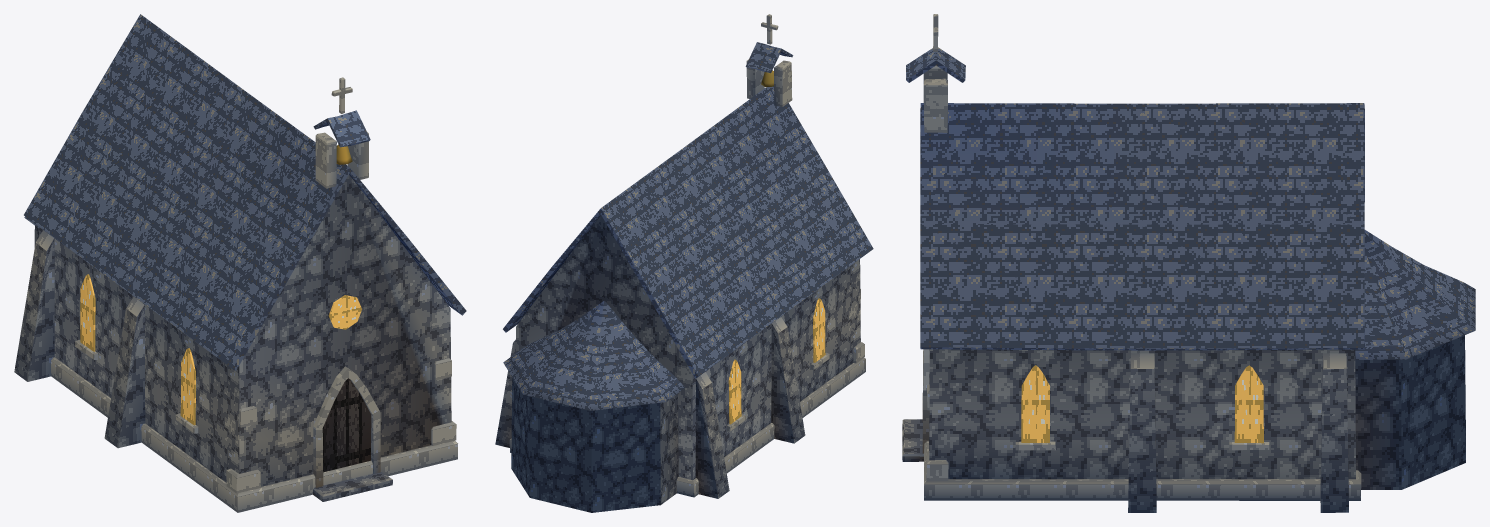
Rendered from vlg.chapel.glb.
3 renders of one model, left to right at view 1: azimuth 30°, elevation 25°; view 2: azimuth 150°, elevation 25°; view 3: azimuth 270°, elevation 25°, orthographic. The views are drawn at different scales.
Visible parts, largest first — view 1: kit_roof, kit_walls, kit_stonework, kit_fittings; view 2: kit_roof, kit_walls, kit_stonework, kit_fittings; view 3: kit_roof, kit_walls, kit_stonework, kit_fittings.
Boxes of the visible parts, <box> form: kit_roof: <box>24,14,466,370</box>; kit_walls: <box>34,174,451,486</box>; kit_stonework: <box>14,132,457,512</box>; kit_fittings: <box>75,77,392,501</box>; kit_roof: <box>503,42,873,410</box>; kit_walls: <box>511,215,860,512</box>; kit_stonework: <box>495,59,865,498</box>; kit_fittings: <box>727,14,829,431</box>; kit_roof: <box>906,47,1475,359</box>; kit_walls: <box>929,335,1465,489</box>; kit_stonework: <box>923,65,1361,512</box>; kit_fittings: <box>902,14,1269,461</box>.
Bounding box in the file's own units: 6.91 × 9.99 × 12.08.
7 materials, 6 textured.
